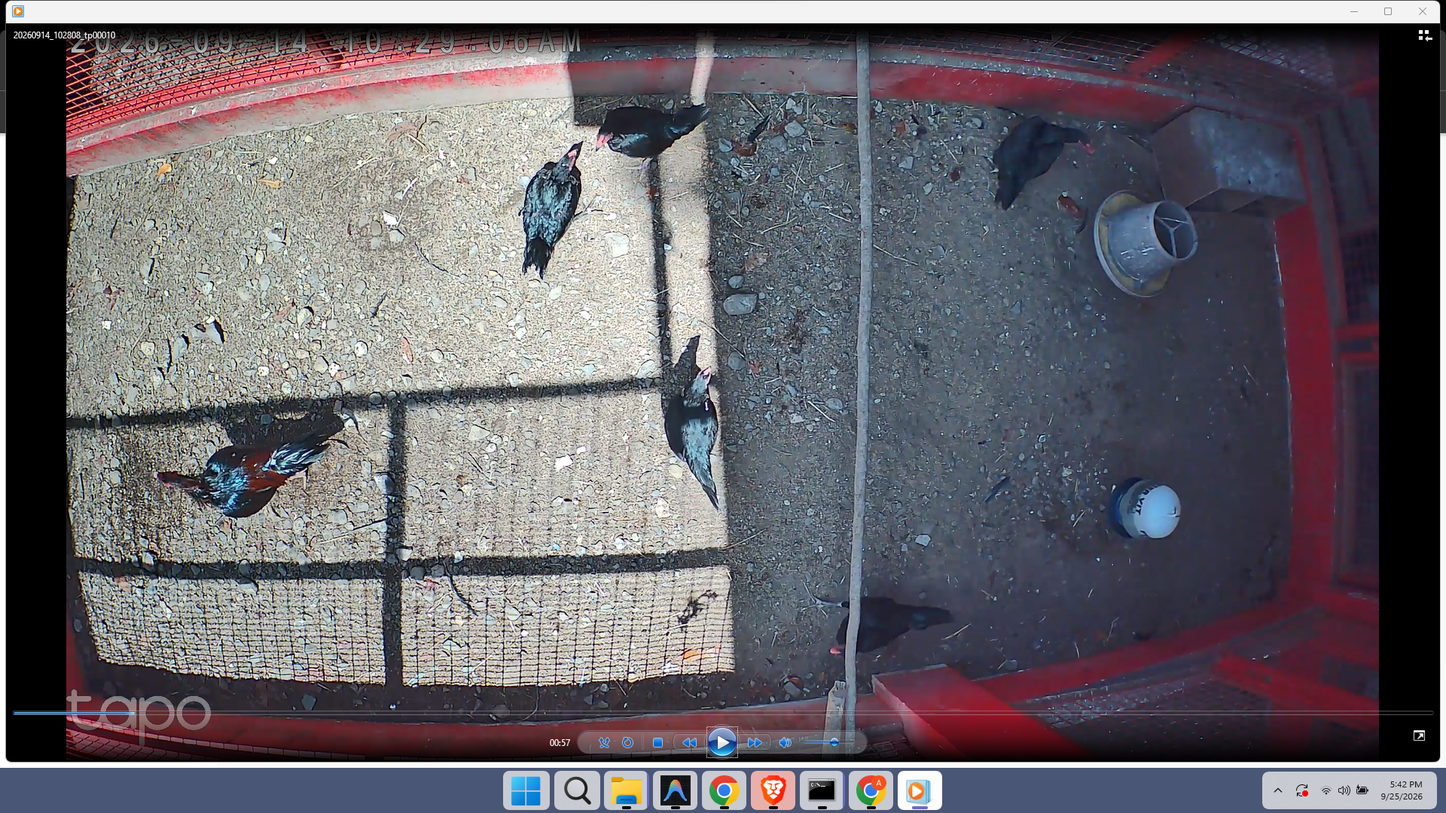Chicken: (986, 106, 1098, 211), (798, 587, 955, 657), (659, 358, 726, 511), (585, 105, 710, 180), (518, 133, 584, 275)
Drinker: (1105, 471, 1185, 543)
Feeder: (1089, 183, 1196, 300)
Rooster: (146, 438, 334, 529)
